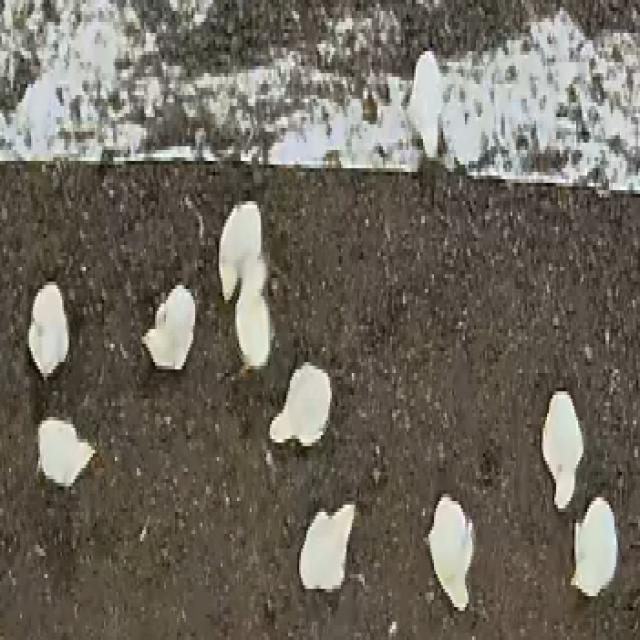broiler: (427, 494, 472, 607), (270, 362, 330, 443), (542, 391, 582, 508), (299, 505, 354, 589), (142, 285, 195, 366), (571, 497, 616, 592), (235, 256, 272, 366), (219, 201, 261, 296), (27, 282, 67, 377), (38, 417, 95, 483)
